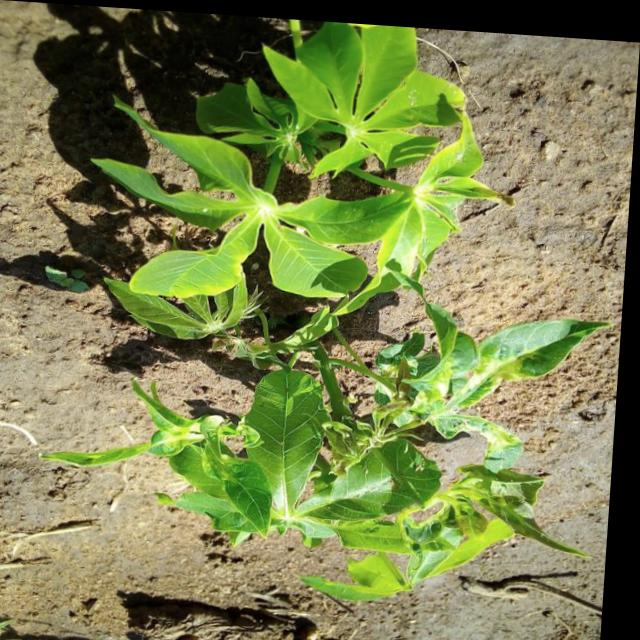Mosaico: (144, 140, 382, 306), (121, 405, 294, 535), (374, 333, 564, 444), (377, 461, 544, 571)
